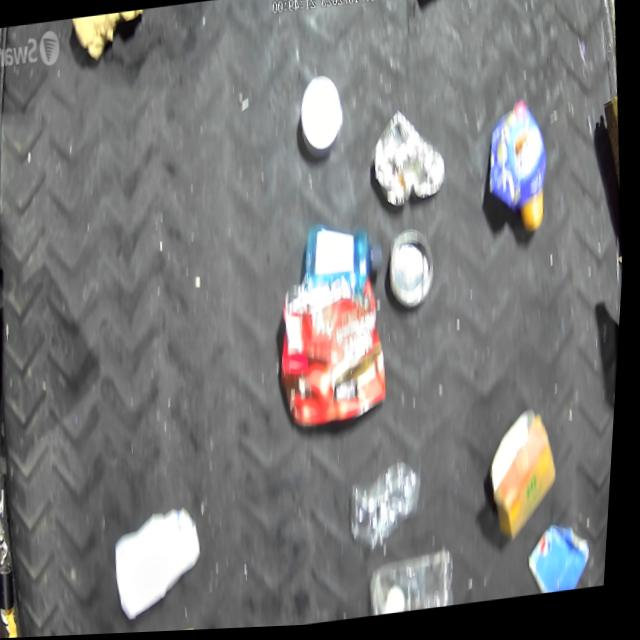can: (367, 107, 452, 213), (385, 229, 442, 315)
non_white_jug: (480, 100, 556, 242)
plastic_bottle: (347, 460, 431, 552)
